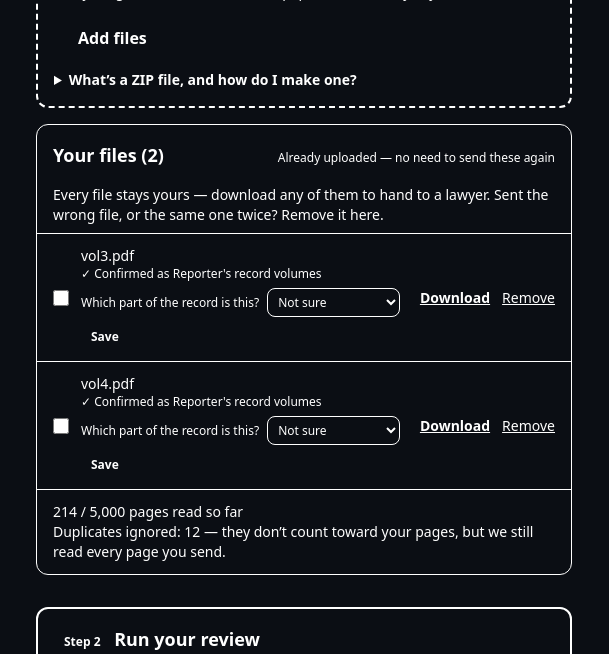
Test: removing uploaded files (2026-09-27) › ticking two or more files shows one Remove for the set, posting the bulk route; a refusal is explained in the notice
This screenshot has width=609, height=654.
(page scrolled)
Click the checkbox with test id "select-file-doc_1" at (61, 298), box [53,290,69,306]
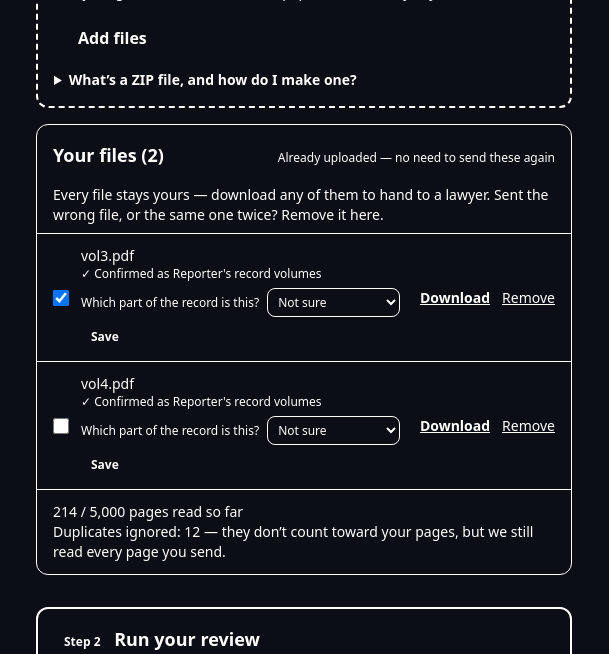
Click the checkbox with test id "select-file-doc_2" at (61, 426), box [53,418,69,434]
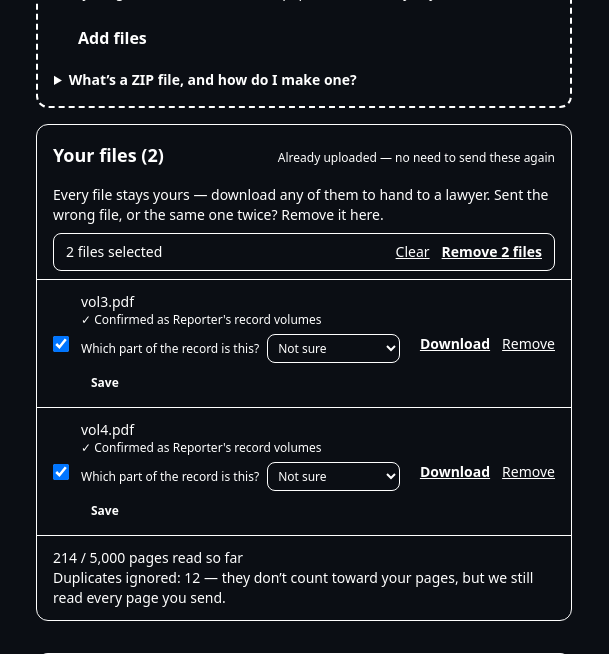
Now the element with test id "remove-selected-bar" shows "2 files selected", box [53,233,555,271]
Click the button with test id "remove-selected" at (492, 252), box [442,242,542,262]
(page scrolled)
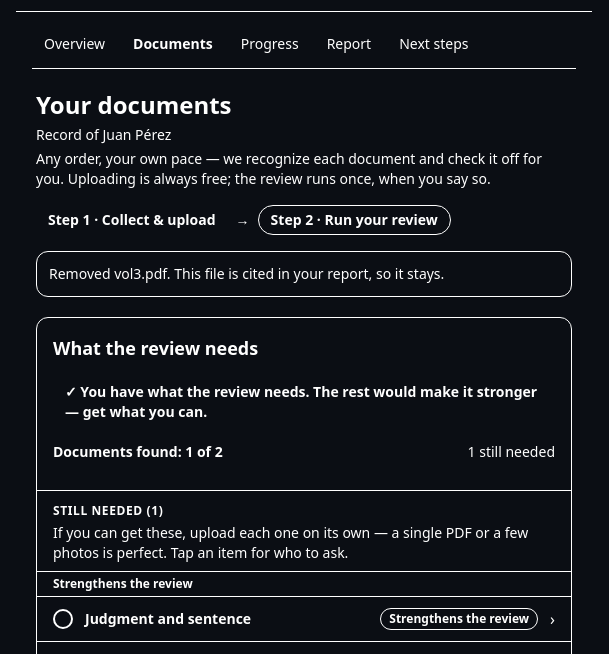
Now the message with test id "files-notice" reads "Removed vol3.pdf. This file is cited in your report, so it stays.", box [49,264,444,283]
